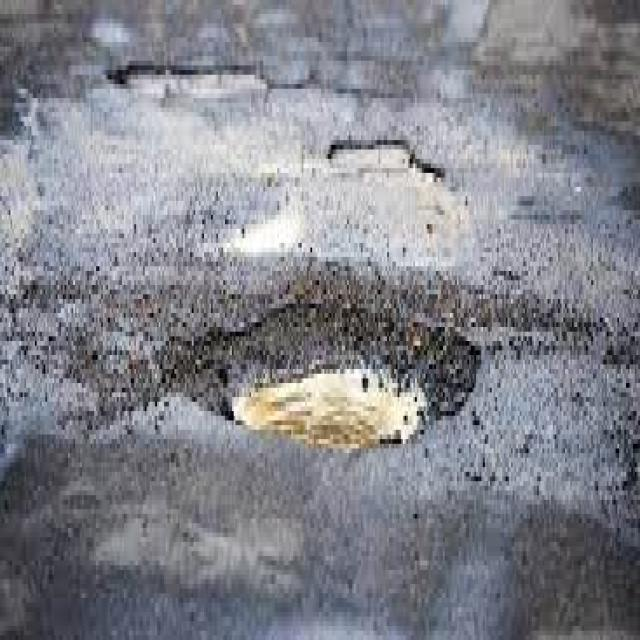Pothole: (164, 295, 481, 454), (329, 140, 445, 184)
